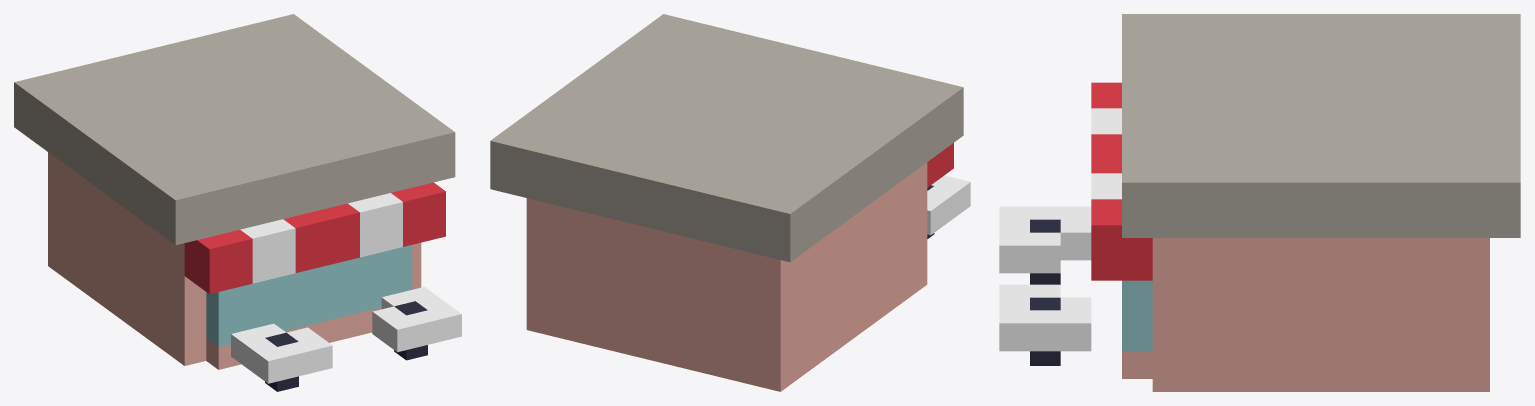
File: cafe.glb
3 views of the same model, side by side, from view 1: azimuth 30°, elevation 25°; view 2: azimuth 150°, elevation 25°; view 3: azimuth 270°, elevation 25° (orthographic). The views are drawn at different scales.
Parts seen in each view (by area): view 1: cafe_roof_flat, cafe_wall_pink, cafe_white, cafe_glass, cafe_red, cafe_black; view 2: cafe_roof_flat, cafe_wall_pink, cafe_white, cafe_red; view 3: cafe_roof_flat, cafe_wall_pink, cafe_white, cafe_red, cafe_glass, cafe_black.
Boxes of the visible parts, x1,y1,x2,y2 form: cafe_roof_flat: (14, 14, 455, 245); cafe_wall_pink: (48, 152, 421, 369); cafe_white: (231, 193, 461, 383); cafe_glass: (206, 245, 412, 347); cafe_red: (184, 182, 445, 294); cafe_black: (265, 301, 427, 391); cafe_roof_flat: (490, 14, 963, 262); cafe_wall_pink: (526, 162, 927, 391); cafe_white: (927, 175, 970, 235); cafe_red: (927, 143, 953, 187); cafe_roof_flat: (1122, 14, 1520, 237); cafe_wall_pink: (1122, 238, 1489, 391); cafe_white: (999, 108, 1121, 351); cafe_red: (1091, 82, 1152, 280); cafe_glass: (1122, 280, 1152, 351); cafe_black: (1030, 219, 1060, 365).
Size of the model in its own units: 8.53 by 5.25 by 11.16.
